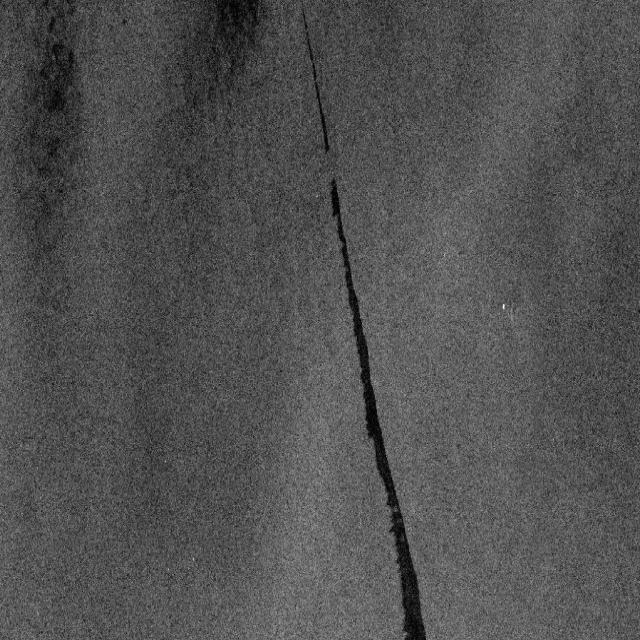oil-spill: (322, 179, 431, 640), (292, 3, 341, 160)
